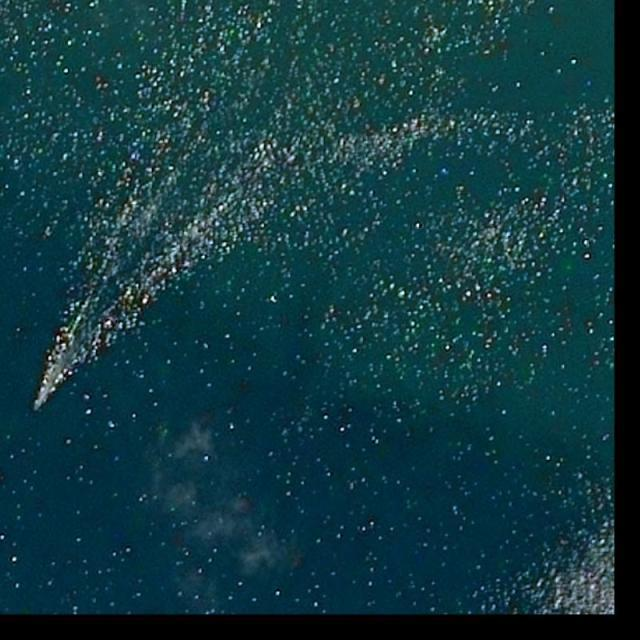ship: (32, 401, 42, 412)
